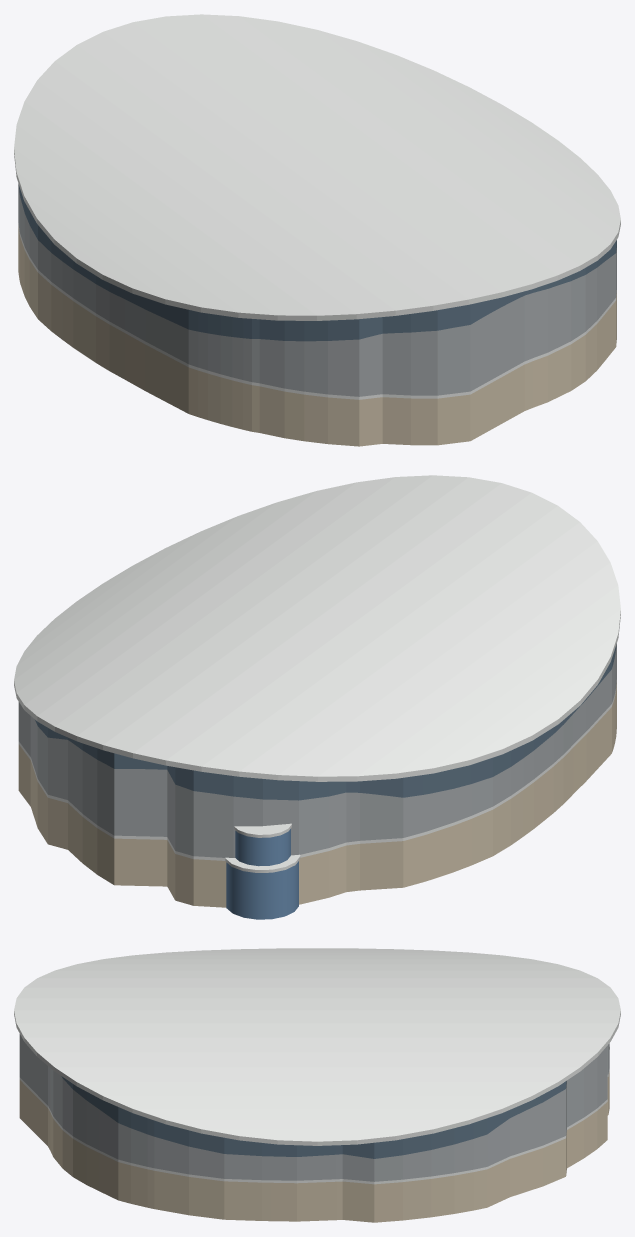
Rendered from pdx-moda-center.glb.
3 renders of one model, top to bottom at view 1: azimuth 30°, elevation 25°; view 2: azimuth 150°, elevation 25°; view 3: azimuth 270°, elevation 25°, orthographic. The views are drawn at different scales.
Visible parts, largest first — view 1: Moda Center; view 2: Moda Center; view 3: Moda Center.
Part boxes in pixels (<box>): Moda Center: <box>14,14,620,446</box>; Moda Center: <box>14,475,620,919</box>; Moda Center: <box>14,948,620,1222</box>.
Bounding box in the file's own units: 135 × 38.7 × 179.
